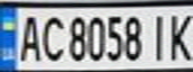0: (84, 12, 106, 63)
5: (103, 11, 127, 63)
8: (121, 11, 148, 62), (63, 11, 87, 63)
A: (15, 11, 45, 63)
C: (36, 11, 66, 63)
I: (145, 10, 172, 62)
K: (163, 9, 193, 62)
